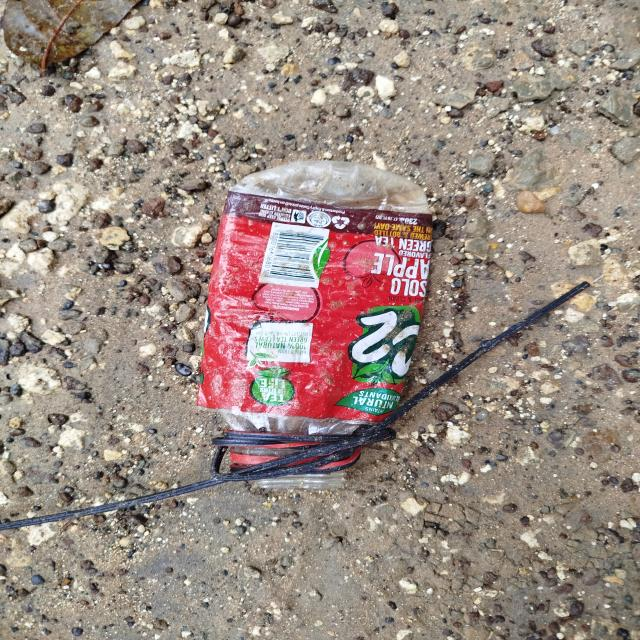plastic: (190, 146, 444, 499)
